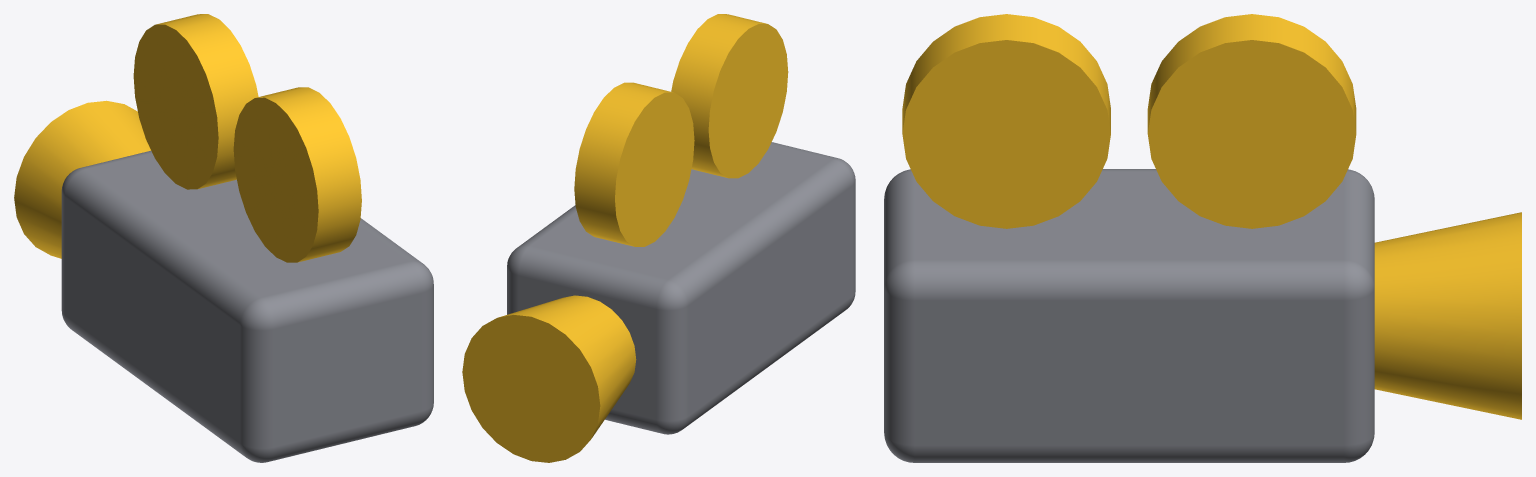
The model's file is camera.glb.
3 renders of one model, left to right at view 1: azimuth 30°, elevation 25°; view 2: azimuth 150°, elevation 25°; view 3: azimuth 270°, elevation 25°, orthographic. The views are drawn at different scales.
Visible parts, largest first — view 1: Camera; view 2: Camera; view 3: Camera.
Boxes of the visible parts, x1,y1,x2,y2 form: Camera: [14, 14, 433, 462]; Camera: [462, 14, 855, 462]; Camera: [884, 14, 1521, 462].
Size of the model in its own units: 0.22 by 0.35 by 0.52.
Materials: 1 (1 with a texture image).
